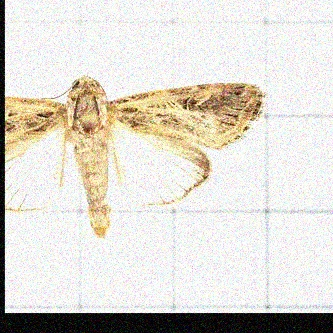Spodoptera litura: (5, 74, 267, 240)
